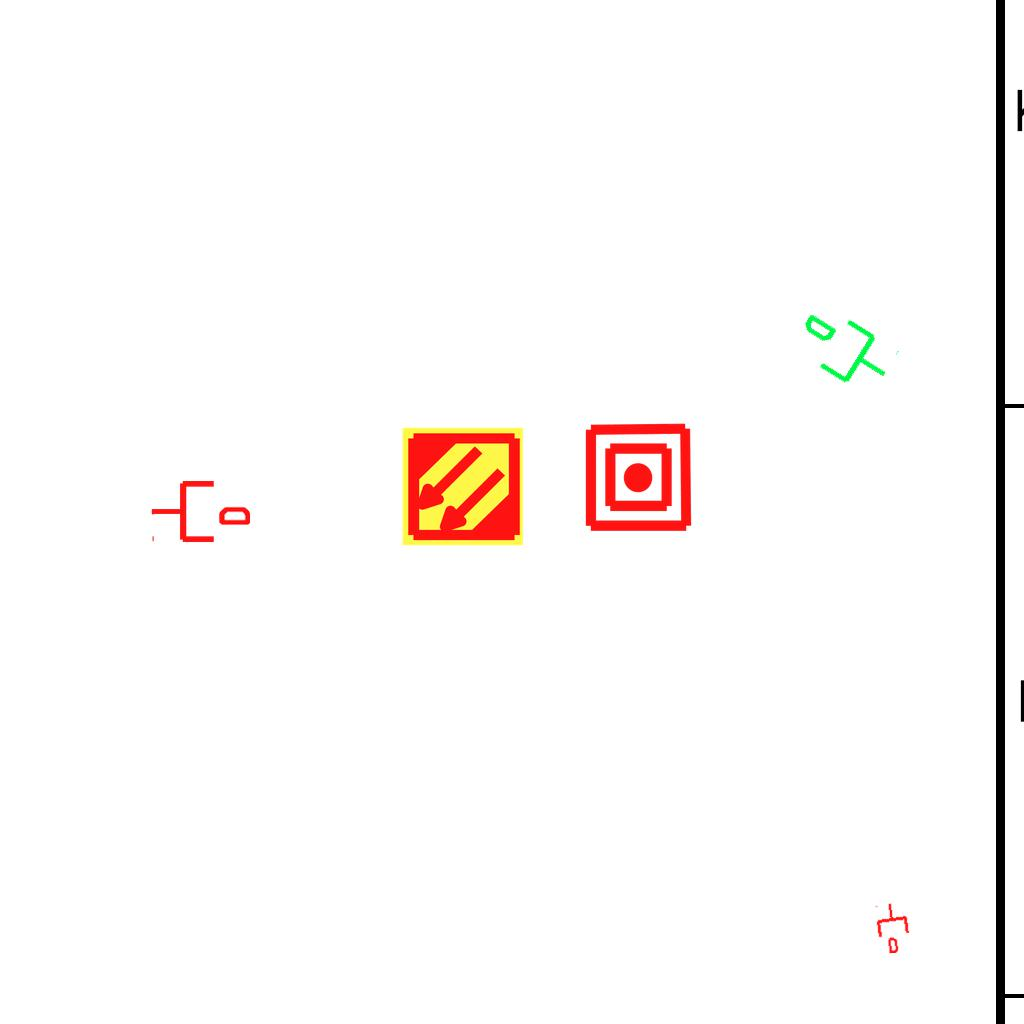ASR_Ansaugrauchmelder: (400, 424, 525, 549)
Datenanschluss_einfach: (782, 295, 905, 407), (150, 477, 250, 546), (872, 900, 914, 956)
NAM-Nichtautomatischer_Melder: (582, 421, 695, 534)
